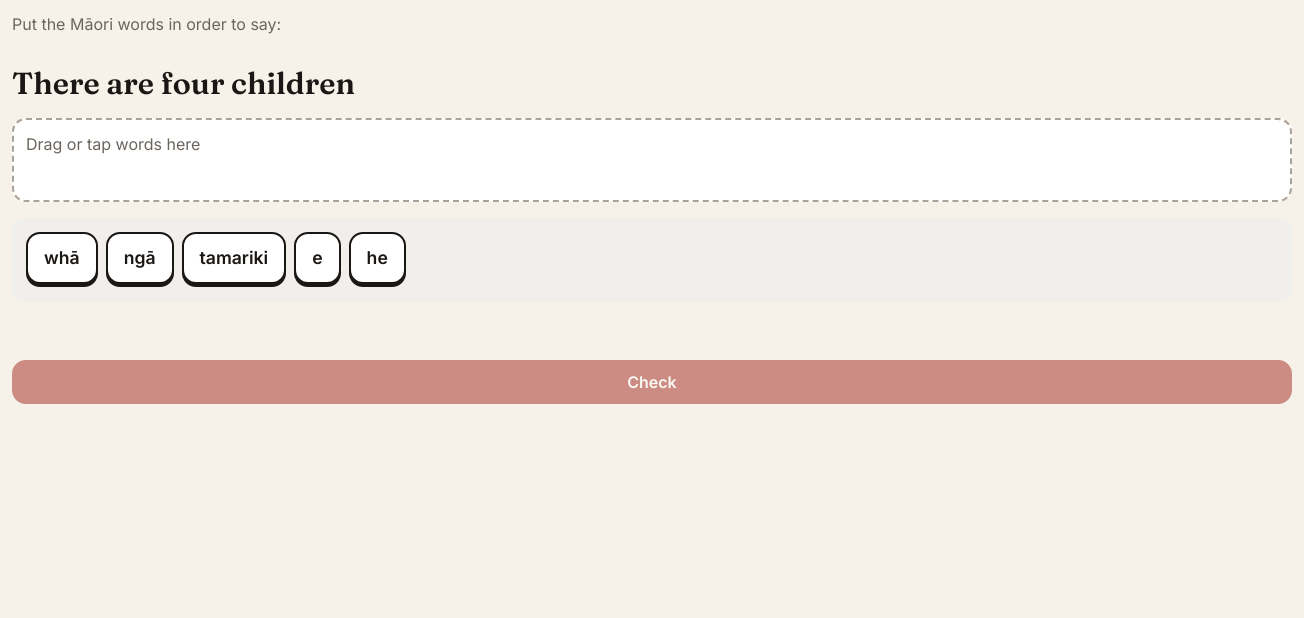
Test: Order › shows the word-by-word breakdown after answering, not before (AC3)
The image size is (1304, 618).
Expected: the text "Word by word" is not shown
Step 1. Click the button "e" → click(317, 258), box [294,232,341,284]
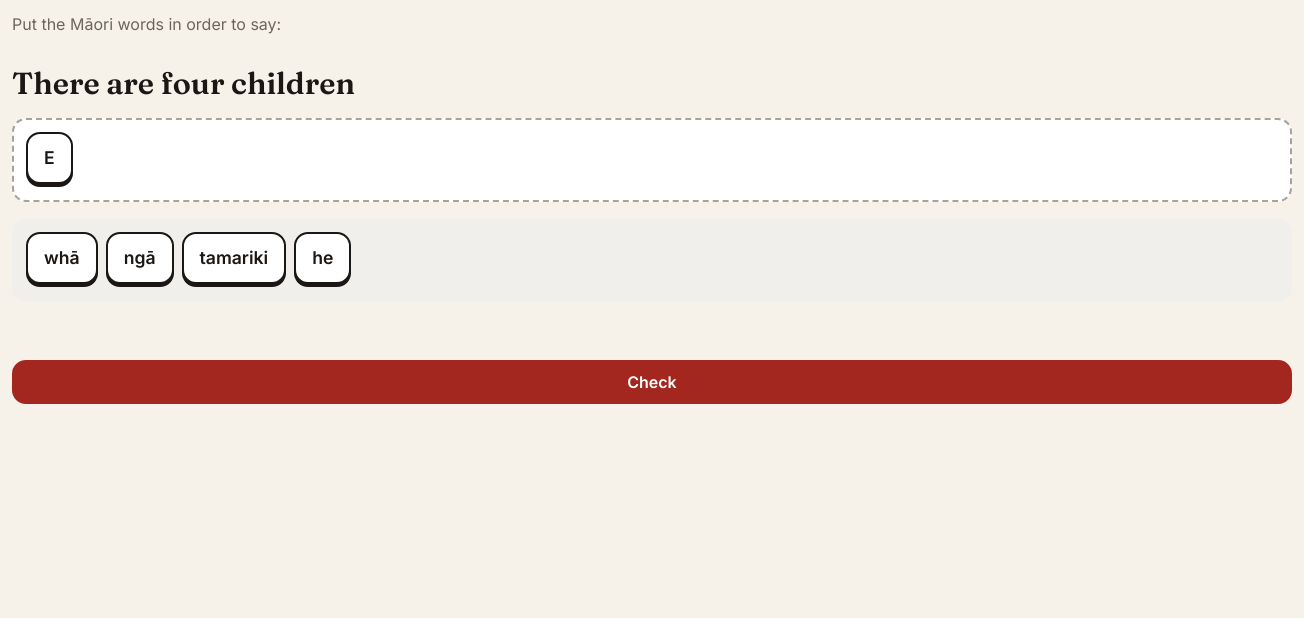
Step 2. Click the button "whā" → click(62, 258), box [26,232,98,284]
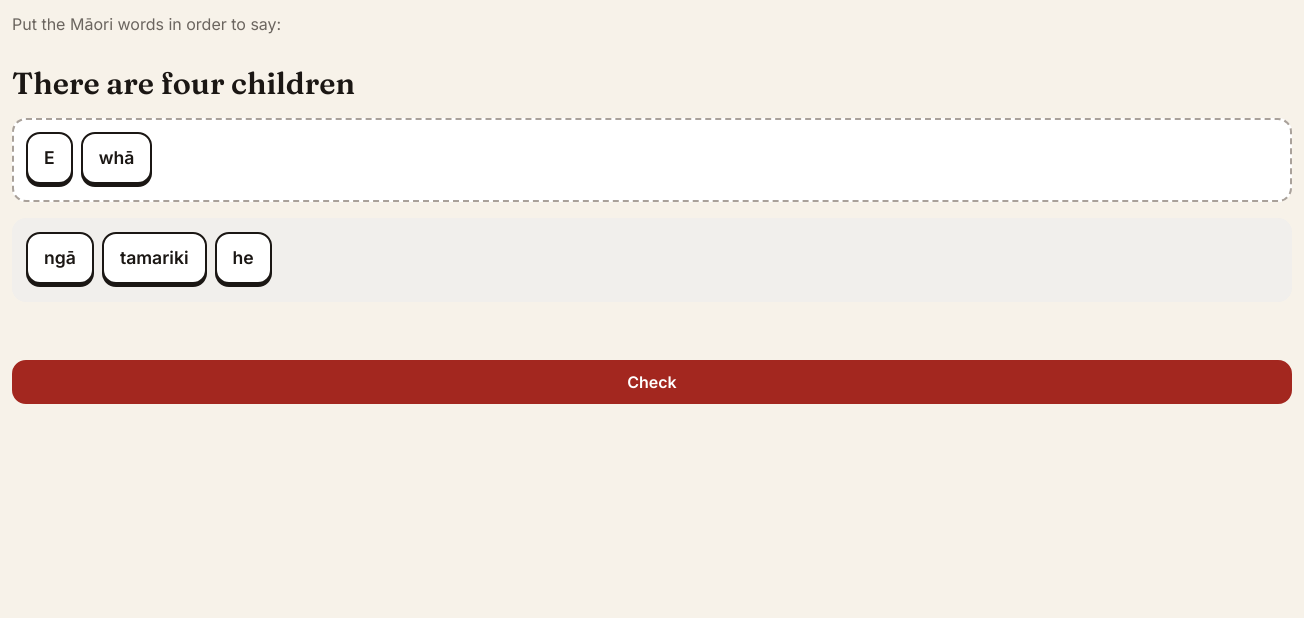
Step 3. Click the button "ngā" → click(60, 258), box [26,232,94,284]
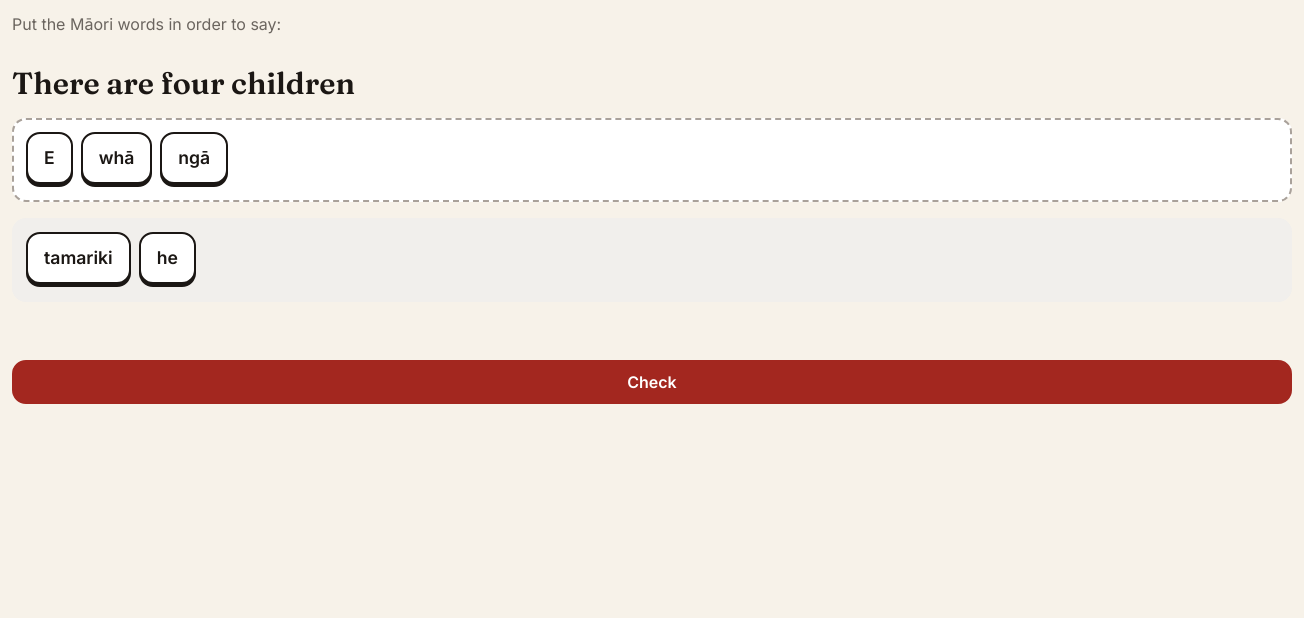
Step 4. Click the button "tamariki" → click(78, 258), box [26,232,131,284]
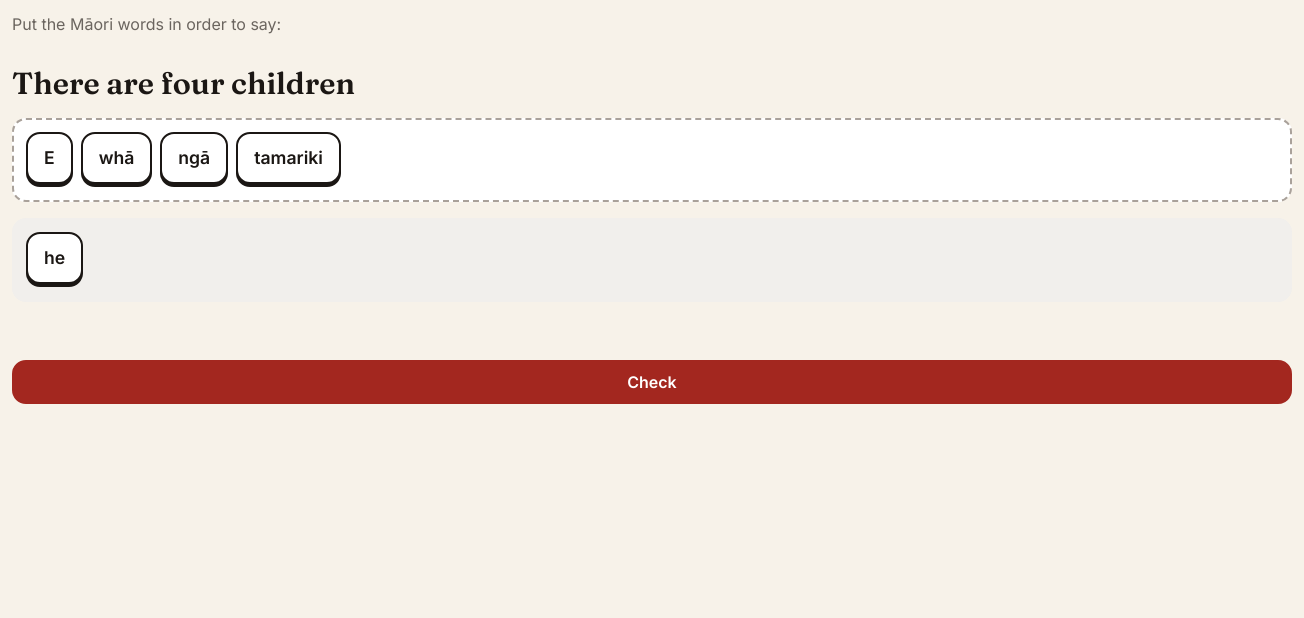
Step 5. Click the button "Check" → click(652, 382), box [12,360,1292,404]
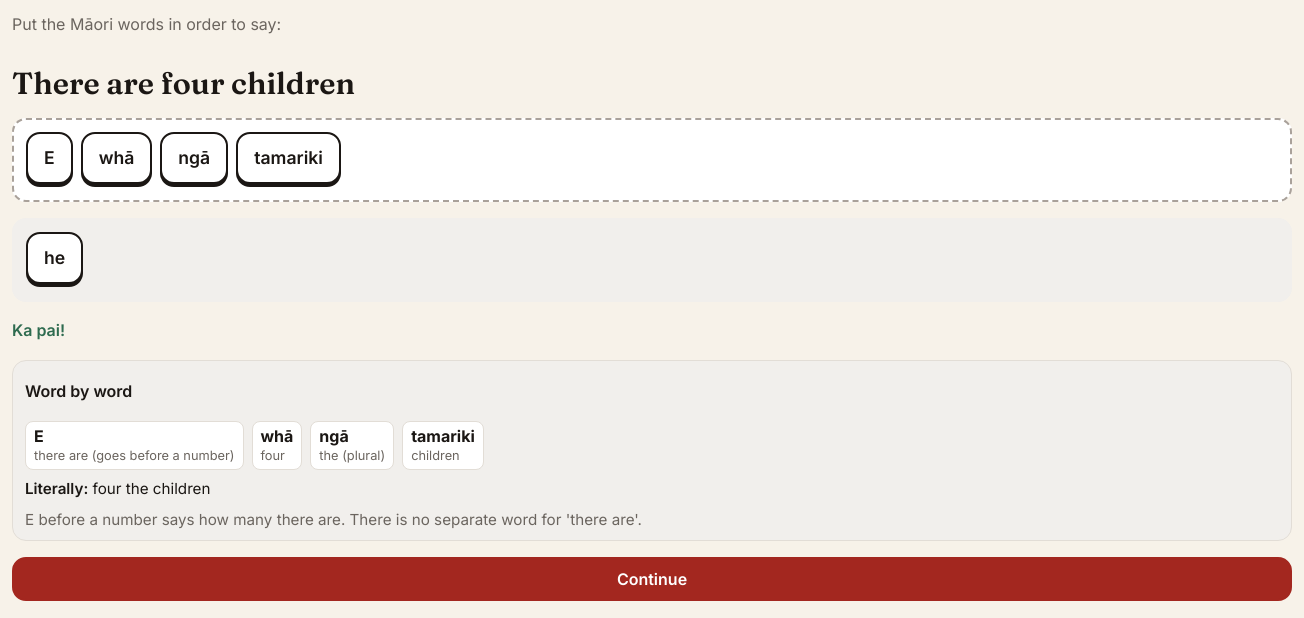
Now the heading "Word by word" is shown, box [25,381,132,401]
Now the text "there are (goes before a number)" is shown, box [34,448,234,465]
Now the text "the (plural)" is shown, box [319,448,385,465]
